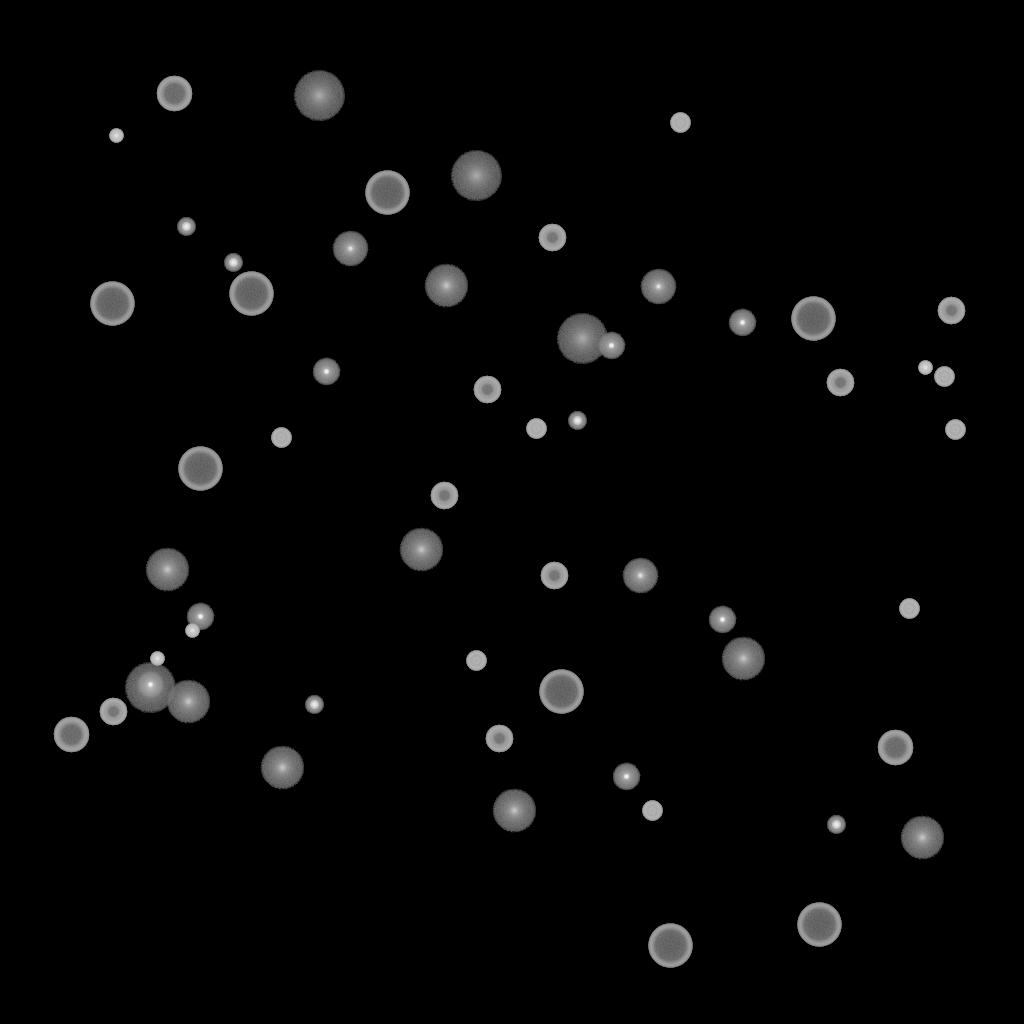depth:-10: (708, 606, 736, 634), (597, 332, 625, 360), (728, 309, 756, 337), (186, 603, 214, 631), (136, 671, 164, 699), (312, 358, 340, 386), (612, 763, 640, 791)
depth:-20: (568, 412, 586, 430), (827, 816, 845, 834), (224, 254, 242, 272), (177, 218, 195, 236), (305, 696, 323, 714)
depth:-30: (185, 624, 199, 638), (150, 652, 164, 666), (918, 361, 932, 375), (109, 129, 123, 143)
depth:-40: (271, 428, 291, 448), (466, 651, 486, 671), (642, 801, 662, 821), (899, 599, 919, 619), (934, 367, 954, 387), (670, 113, 690, 133), (945, 420, 965, 440), (526, 419, 546, 439)
depth:-50: (826, 369, 854, 397), (99, 698, 127, 726), (937, 297, 965, 325), (473, 376, 501, 404), (485, 725, 513, 753), (430, 482, 458, 510), (538, 224, 566, 252), (540, 562, 568, 590)
depth:-60: (877, 730, 913, 766), (53, 717, 89, 753), (156, 76, 192, 112)
depth:-70: (791, 297, 835, 341), (90, 282, 134, 326), (178, 447, 222, 491), (229, 272, 273, 316), (539, 670, 583, 714), (797, 903, 841, 947), (648, 924, 692, 968), (365, 171, 409, 215)
depth:0: (332, 231, 368, 267), (622, 558, 658, 594), (640, 269, 676, 305)
depth:10: (424, 264, 468, 308), (166, 680, 210, 724), (900, 816, 944, 860), (145, 548, 189, 592), (260, 746, 304, 790), (492, 789, 536, 833), (721, 637, 765, 681), (399, 528, 443, 572)
depth:20: (450, 151, 502, 201), (556, 314, 608, 364), (293, 71, 345, 121), (124, 663, 176, 713)
